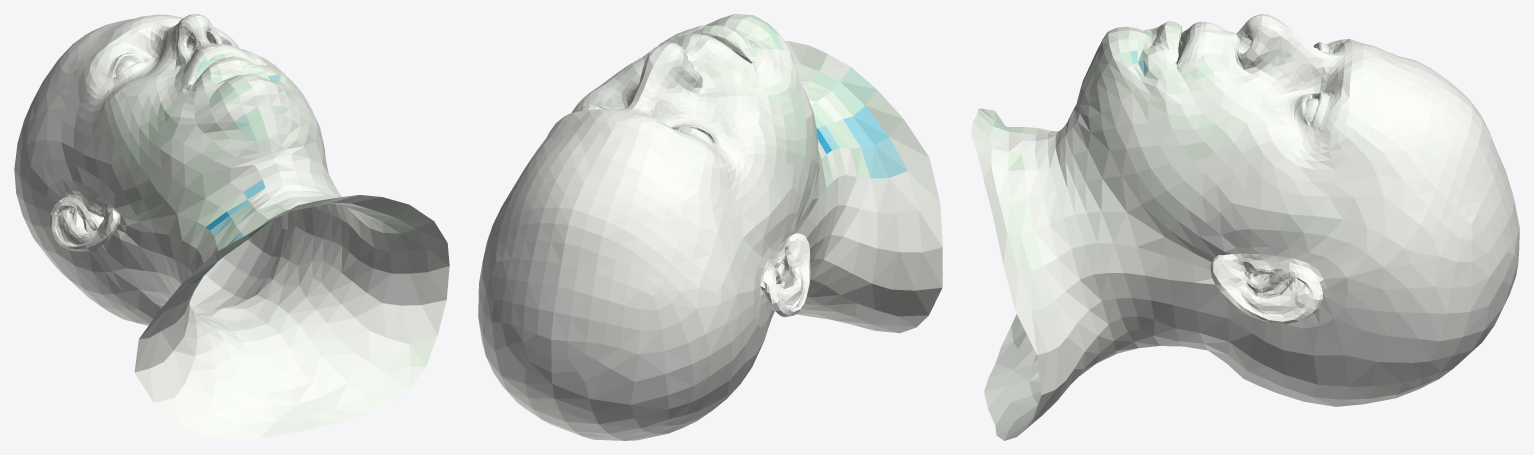
File: comaspiralconv_3.glb
The picture shows the model from 3 angles, left to right: view 1: azimuth 30°, elevation 25°; view 2: azimuth 150°, elevation 25°; view 3: azimuth 270°, elevation 25°; orthographic projection. The views are drawn at different scales.
Parts seen in each view (by area): view 1: imagetostl_mesh0; view 2: imagetostl_mesh0; view 3: imagetostl_mesh0.
Boxes of the visible parts, <box> form: imagetostl_mesh0: <box>14,14,449,440</box>; imagetostl_mesh0: <box>478,14,942,440</box>; imagetostl_mesh0: <box>971,14,1519,440</box>.
Bounding box in the file's own units: 238 × 239 × 315.
